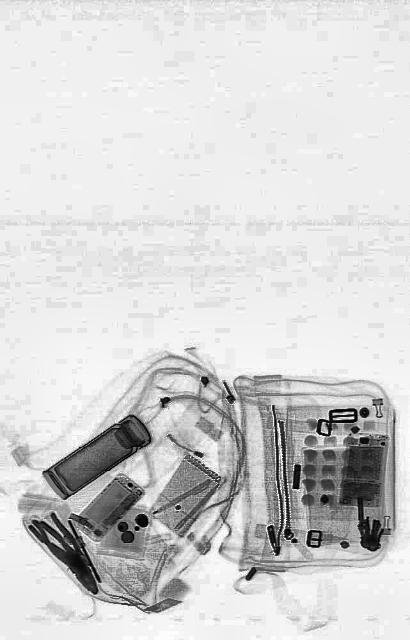Pliers: (29, 497, 104, 608)
